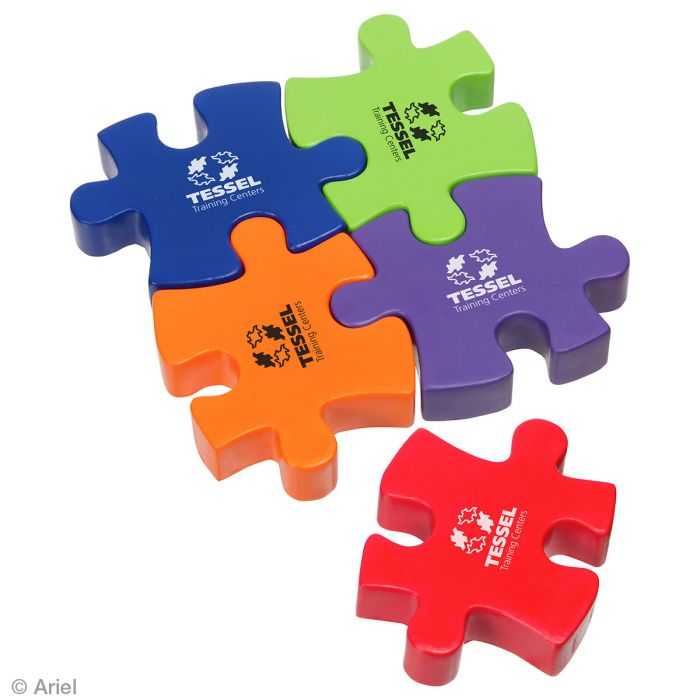puzzle piece: (325, 161, 649, 422), (150, 203, 423, 510), (344, 413, 630, 691), (67, 69, 365, 284), (277, 7, 544, 243)
